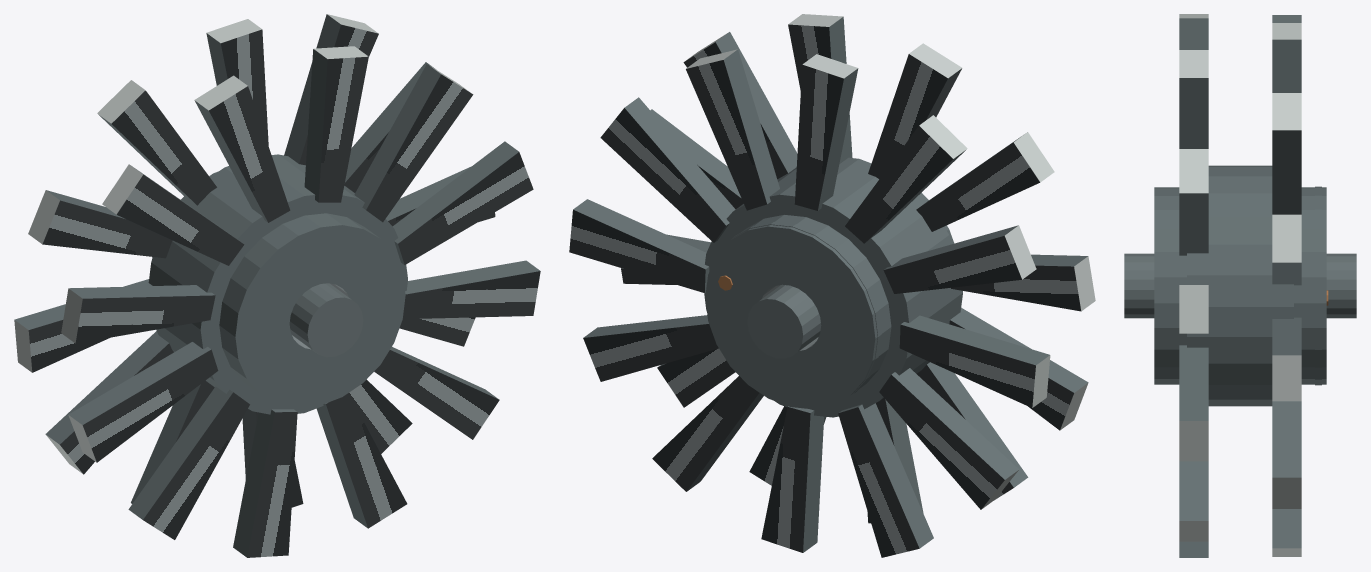
File: rotor_blades_d3.obj
3 renders of one model, left to right at view 1: azimuth 30°, elevation 25°; view 2: azimuth 150°, elevation 25°; view 3: azimuth 270°, elevation 25°, orthographic.
Visible parts, largest first — view 1: stepped_hub, blade_row1_n06, blade_row1_n01, blade_row1_n07, blade_row1_n02, blade_row1_n00, blade_row1_n08, blade_row1_n05, blade_row1_n03, blade_row1_n11, blade_row1_n09, blade_row0_n04 (+14 smaller); view 2: stepped_hub, blade_row0_n07, blade_row0_n02, blade_row0_n01, blade_row0_n08, blade_row0_n06, blade_row0_n03, blade_row0_n00, blade_row0_n09, blade_row0_n05, blade_row0_n04, blade_row0_n11 (+15 smaller); view 3: stepped_hub, rotor_shaft, blade_row0_n02, blade_row1_n11, blade_row0_n11, blade_row1_n01, blade_row1_n02, blade_row0_n00, blade_row1_n10, blade_row0_n01, blade_row0_n03, blade_row1_n00 (+4 smaller).
Boxes of the visible parts, box(x1,y1,x2,y2) form: stepped_hub: box(148, 154, 407, 414); blade_row1_n06: box(68, 342, 218, 462); blade_row1_n01: box(354, 64, 473, 222); blade_row1_n07: box(128, 386, 249, 539); blade_row1_n02: box(304, 46, 368, 202); blade_row1_n00: box(392, 141, 533, 264); blade_row1_n08: box(233, 409, 297, 557); blade_row1_n05: box(61, 285, 215, 343); blade_row1_n03: box(194, 75, 290, 222); blade_row1_n11: box(402, 260, 540, 319); blade_row1_n09: box(316, 393, 407, 528); blade_row0_n04: box(97, 80, 216, 205); stepped_hub: box(704, 157, 962, 417); blade_row0_n07: box(879, 368, 1018, 509); blade_row0_n02: box(686, 49, 779, 210); blade_row0_n01: box(600, 97, 735, 242); blade_row0_n08: box(838, 403, 933, 557); blade_row0_n06: box(899, 315, 1050, 407); blade_row0_n03: box(794, 54, 858, 210); blade_row0_n00: box(569, 199, 709, 293); blade_row0_n09: box(761, 406, 824, 552); blade_row0_n05: box(883, 225, 1036, 293); blade_row0_n04: box(845, 115, 967, 243); blade_row0_n11: box(583, 315, 718, 381); stepped_hub: box(1154, 165, 1326, 406); rotor_shaft: box(1124, 253, 1356, 318); blade_row0_n02: box(1272, 93, 1301, 214); blade_row1_n11: box(1179, 345, 1208, 461); blade_row0_n11: box(1272, 401, 1301, 508); blade_row1_n01: box(1179, 149, 1208, 255); blade_row1_n02: box(1179, 50, 1208, 148); blade_row0_n00: box(1272, 317, 1301, 401); blade_row1_n10: box(1179, 461, 1208, 541); blade_row0_n01: box(1272, 214, 1301, 285); blade_row0_n03: box(1272, 23, 1301, 92); blade_row1_n00: box(1179, 285, 1208, 333).
Size of the model in its own units: 2.34 by 2.34 by 1.
